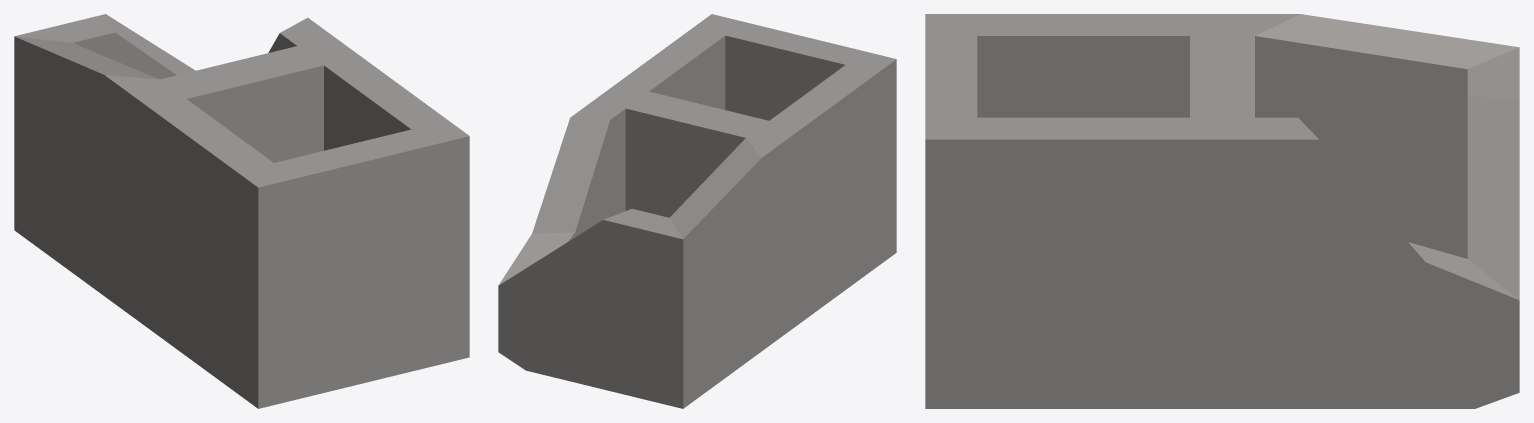
Rendered from SM_Prop_Block_03.fbx.
3 views of the same model, side by side, from view 1: azimuth 30°, elevation 25°; view 2: azimuth 150°, elevation 25°; view 3: azimuth 270°, elevation 25° (orthographic). The views are drawn at different scales.
Parts seen in each view (by area): view 1: SM_Prop_Block_03; view 2: SM_Prop_Block_03; view 3: SM_Prop_Block_03.
Boxes of the visible parts, x1,y1,x2,y2 form: SM_Prop_Block_03: (14,14,469,408); SM_Prop_Block_03: (498,14,896,408); SM_Prop_Block_03: (925,14,1519,408).
Size of the model in its own units: 21.68 by 21.68 by 43.35.
